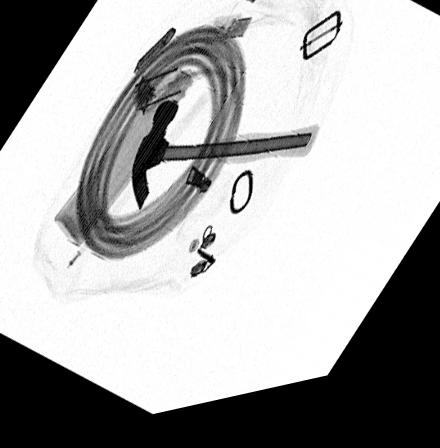Hammer: (130, 106, 319, 218)
